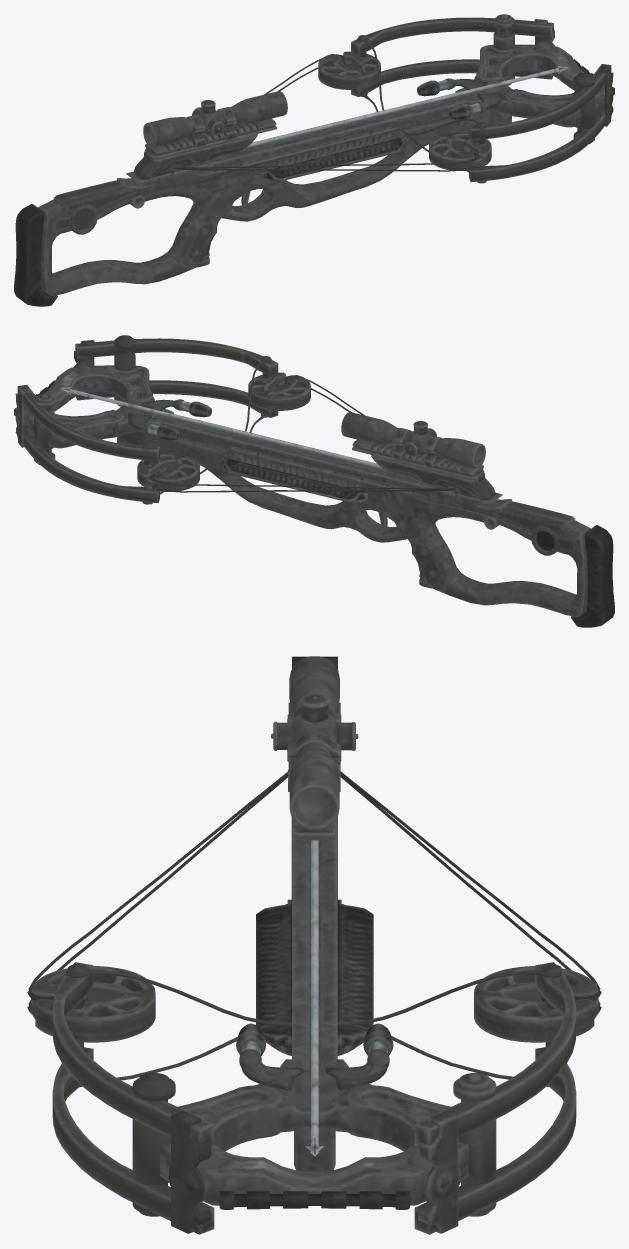
File: crossbow.glb
The picture shows the model from 3 angles, top to bottom: view 1: azimuth 30°, elevation 25°; view 2: azimuth 150°, elevation 25°; view 3: azimuth 270°, elevation 25°; orthographic projection. The views are drawn at different scales.
Visible parts, largest first — view 1: Object_3, Object_4, Object_5, Object_2; view 2: Object_3, Object_4, Object_5, Object_2; view 3: Object_4, Object_2, Object_3, Object_5.
Boxes of the visible parts, x1,y1,x2,y2 form: Object_3: [38, 14, 553, 295]; Object_4: [246, 35, 613, 182]; Object_5: [14, 38, 491, 306]; Object_2: [143, 19, 614, 208]; Object_3: [17, 385, 590, 617]; Object_4: [24, 335, 382, 504]; Object_5: [142, 356, 614, 627]; Object_2: [14, 380, 485, 529]; Object_4: [52, 840, 598, 1234]; Object_2: [219, 656, 460, 1233]; Object_3: [288, 702, 576, 1234]; Object_5: [27, 656, 601, 1087].
Bounding box in the file's own units: 1.29 × 0.3505 × 0.5615.
Materials: 1 (1 with a texture image).
